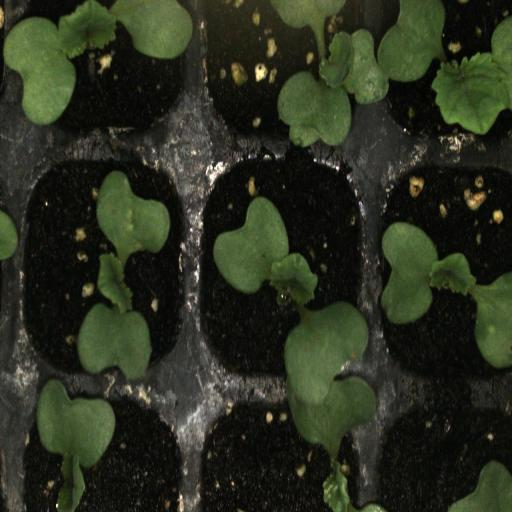seedling: (194, 152, 377, 384), (10, 156, 192, 376), (381, 149, 512, 387), (11, 0, 192, 151)
